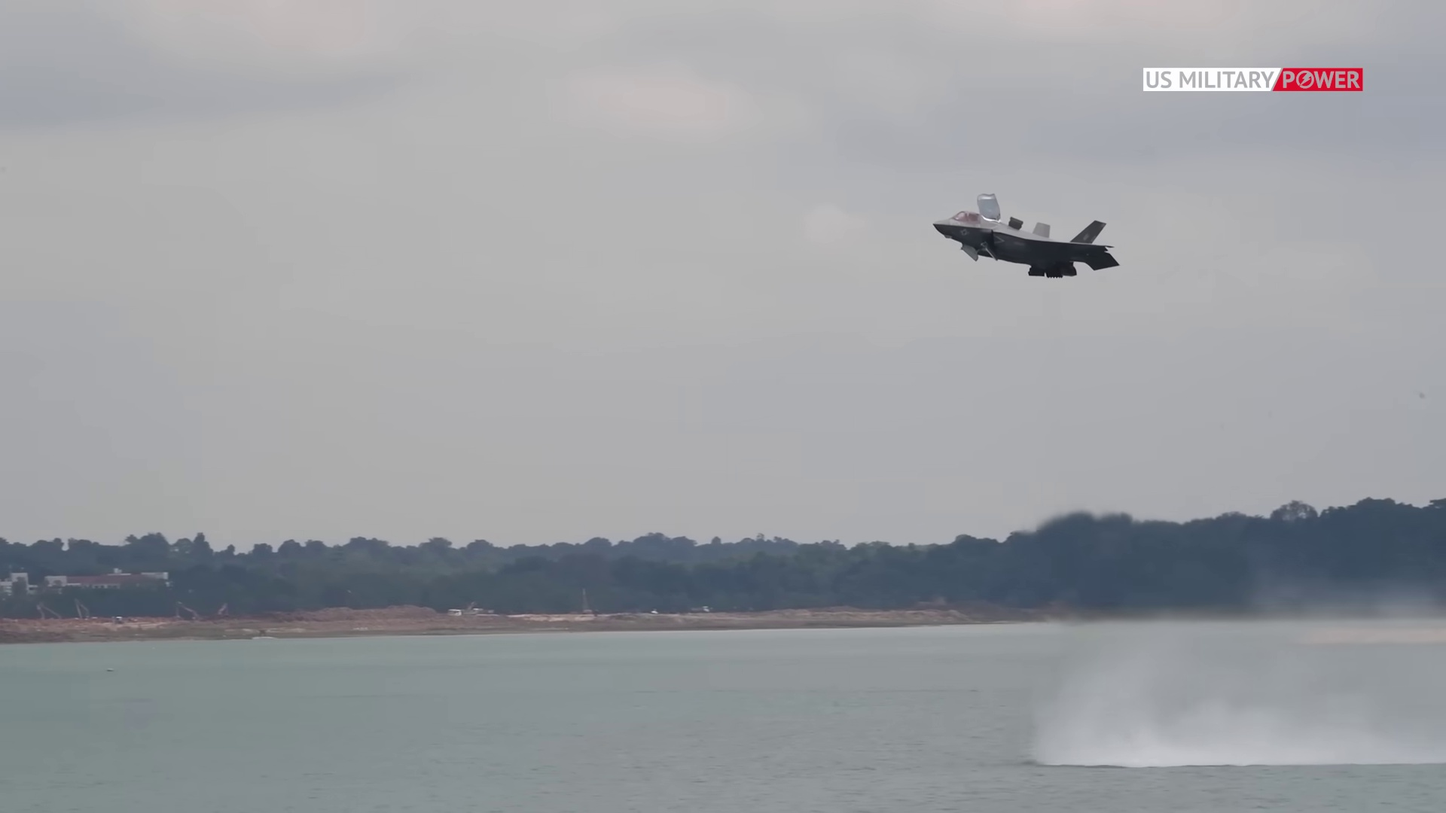F35: (928, 181, 1125, 297)
